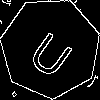U: (26, 23, 81, 81)
